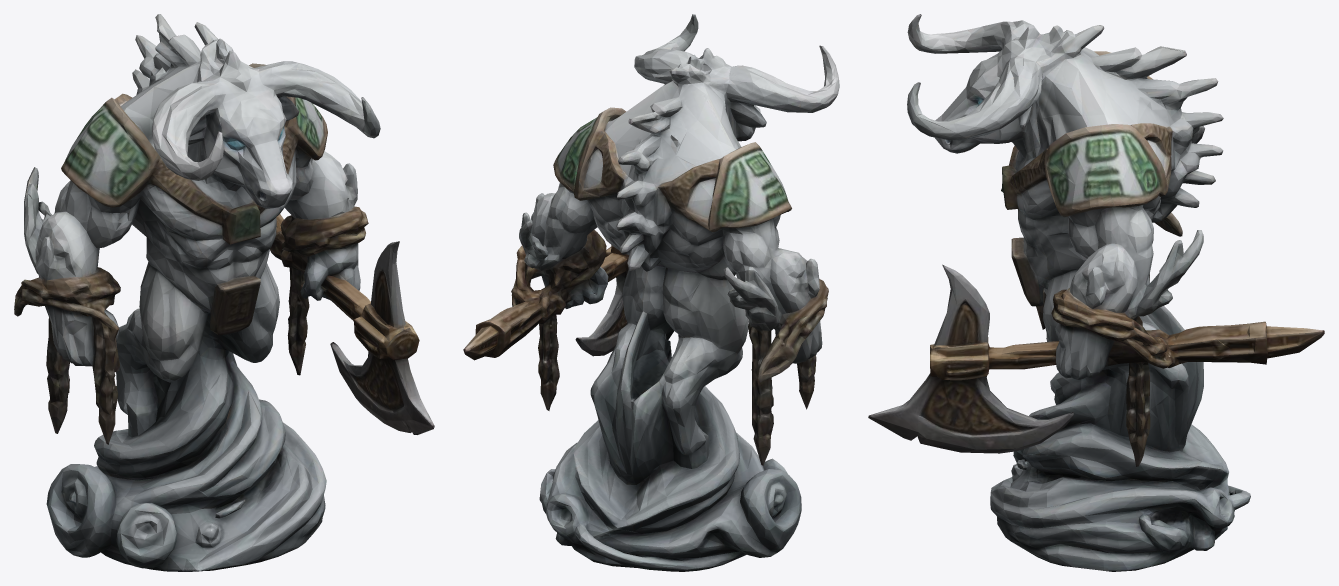
File: paleMinotaurShade.glb
The picture shows the model from 3 angles, left to right: view 1: azimuth 30°, elevation 25°; view 2: azimuth 150°, elevation 25°; view 3: azimuth 270°, elevation 25°; orthographic projection. The views are drawn at different scales.
Parts seen in each view (by area): view 1: world; view 2: world; view 3: world.
Boxes of the visible parts, <box> form: world: <box>14,14,434,571</box>; world: <box>463,14,839,571</box>; world: <box>868,14,1324,571</box>.
Size of the model in its own units: 0.6748 by 0.999 by 0.8363.
1 material, 1 textured.
